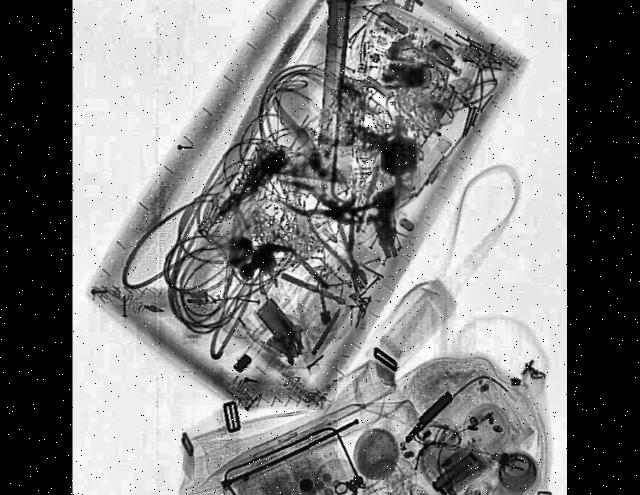Pliers: (300, 189, 372, 302), (272, 171, 354, 230)
